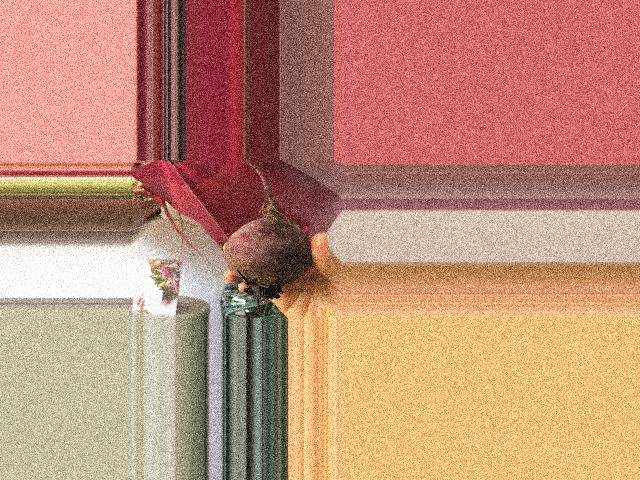beet: (223, 160, 311, 318)
